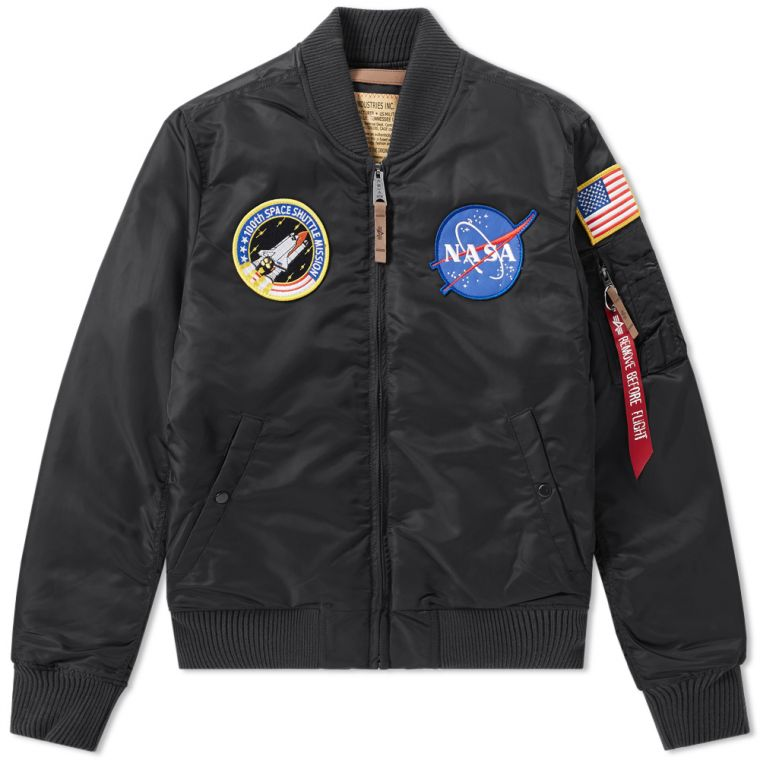NASA: (427, 200, 536, 303)
